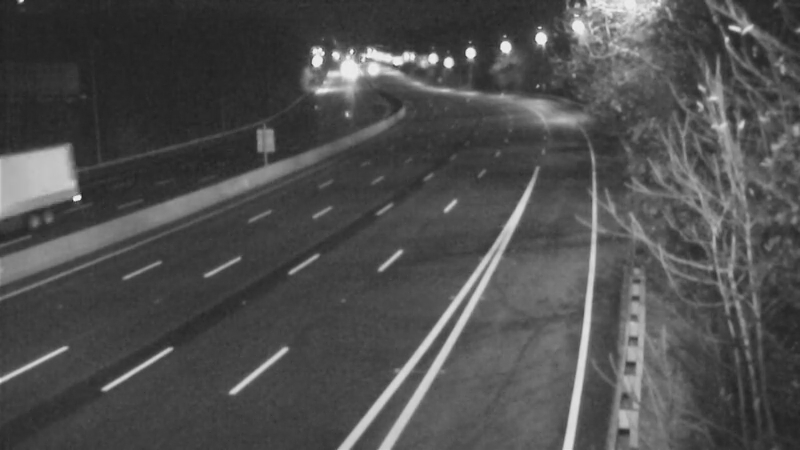vehicle: (1, 155, 72, 235)
